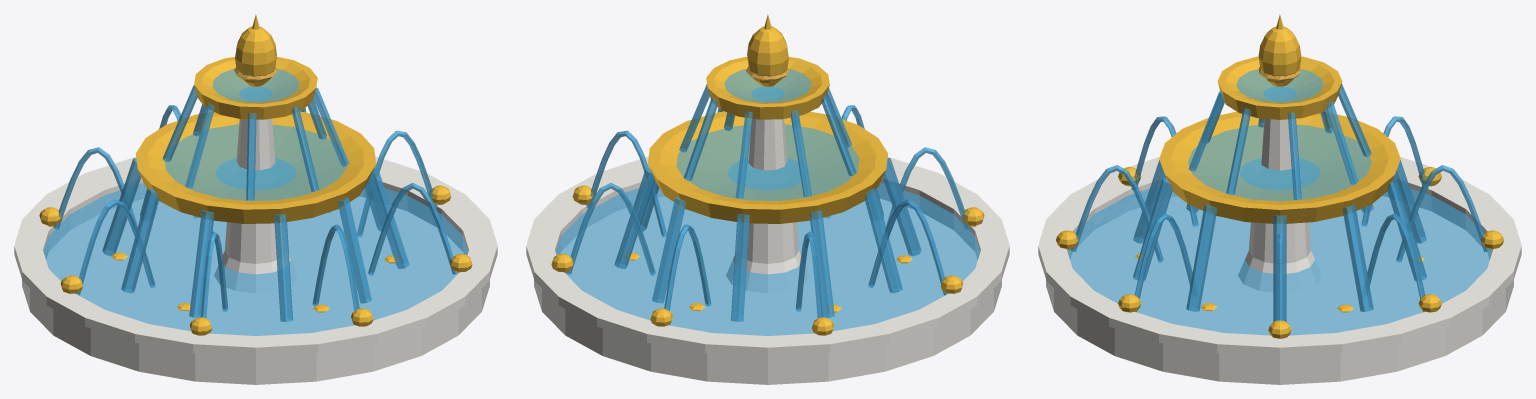
File: GoldFountain.fbx
3 views of the same model, side by side, from view 1: azimuth 30°, elevation 25°; view 2: azimuth 150°, elevation 25°; view 3: azimuth 270°, elevation 25° (orthographic).
Visible parts, largest first — view 1: GoldFountain_Marble, GoldFountain_Water, GoldFountain_Gold; view 2: GoldFountain_Marble, GoldFountain_Water, GoldFountain_Gold; view 3: GoldFountain_Marble, GoldFountain_Water, GoldFountain_Gold.
Boxes of the visible parts, x1=… form: GoldFountain_Marble: x1=14, y1=118, x2=497, y2=384; GoldFountain_Water: x1=44, y1=69, x2=467, y2=335; GoldFountain_Gold: x1=39, y1=15, x2=472, y2=335; GoldFountain_Marble: x1=526, y1=118, x2=1009, y2=384; GoldFountain_Water: x1=556, y1=69, x2=979, y2=335; GoldFountain_Gold: x1=551, y1=15, x2=984, y2=335; GoldFountain_Marble: x1=1038, y1=118, x2=1521, y2=384; GoldFountain_Water: x1=1068, y1=69, x2=1491, y2=335; GoldFountain_Gold: x1=1056, y1=15, x2=1503, y2=338.
Size of the model in its own units: 24.8 by 15.4 by 24.8.
